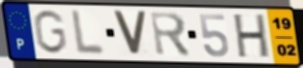5: (197, 12, 231, 59)
G: (31, 9, 69, 56)
H: (232, 12, 271, 60)
L: (70, 9, 107, 58)
R: (148, 10, 193, 59)
V: (110, 9, 149, 58)
